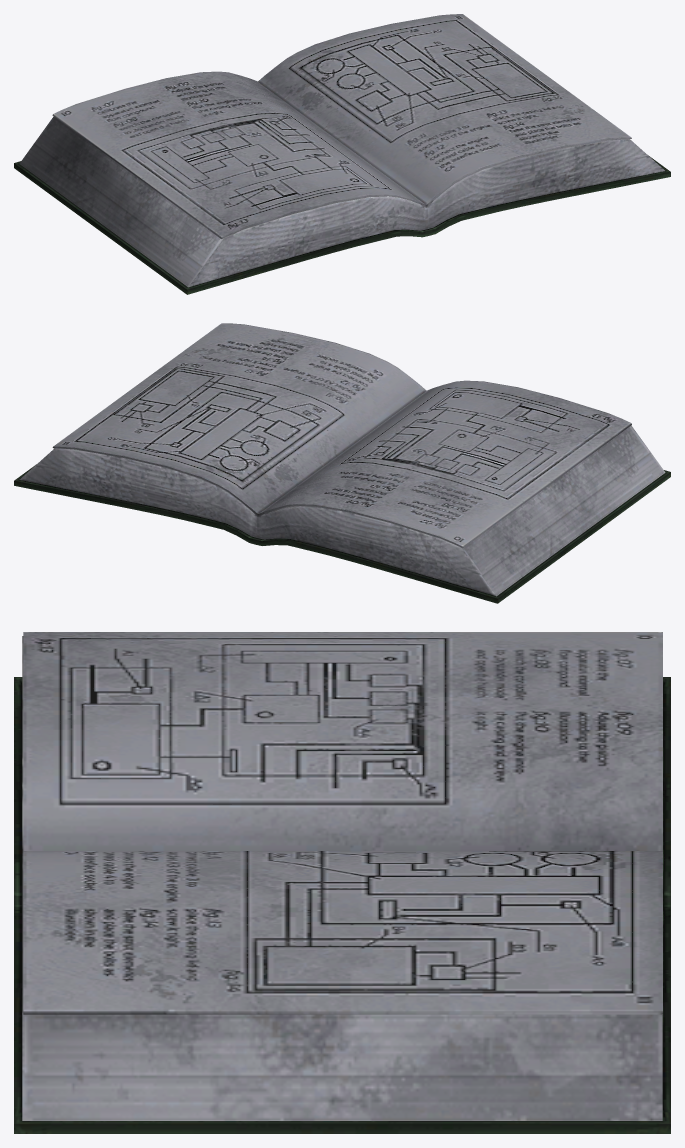
The model's file is book_readable_open03.dae.
The picture shows the model from 3 angles, top to bottom: view 1: azimuth 30°, elevation 25°; view 2: azimuth 150°, elevation 25°; view 3: azimuth 270°, elevation 25°; orthographic projection. The views are drawn at different scales.
Visible parts, largest first — view 1: book_readable_open03; view 2: book_readable_open03; view 3: book_readable_open03.
Part boxes in pixels (left/top/right/bottom): book_readable_open03: left=14, top=14, right=670, bottom=294; book_readable_open03: left=14, top=323, right=670, bottom=603; book_readable_open03: left=14, top=632, right=670, bottom=1133.
Size of the model in its own units: 0.5637 by 0.061 by 0.3497.
